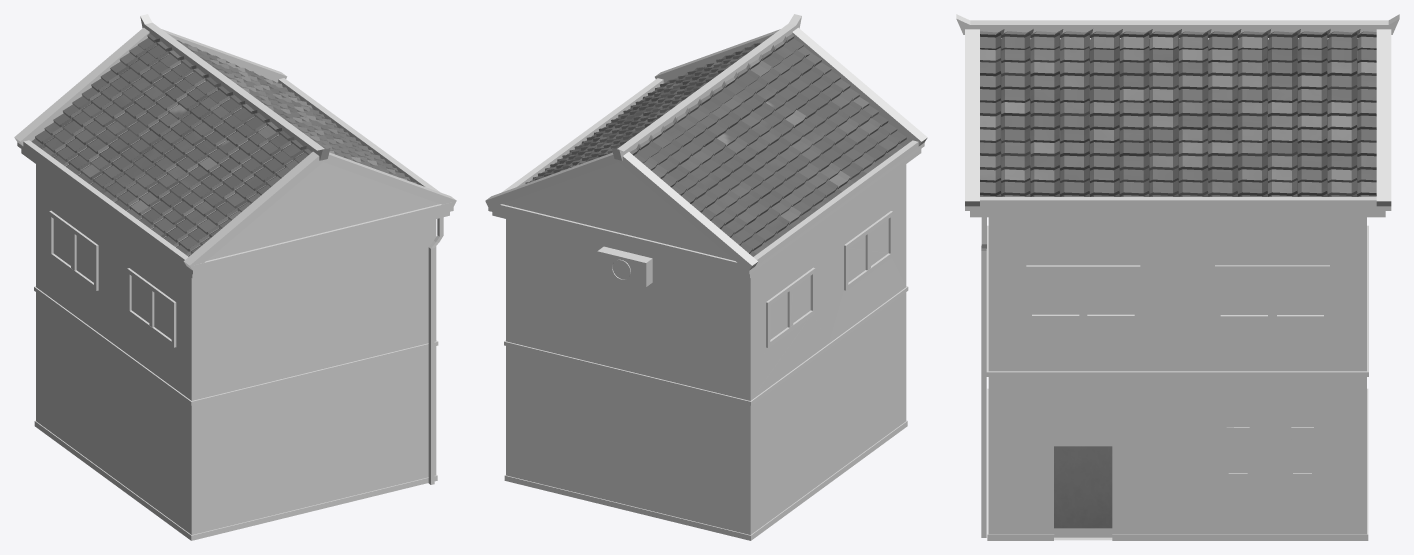
File: Casa1.fbx
3 renders of one model, left to right at view 1: azimuth 30°, elevation 25°; view 2: azimuth 150°, elevation 25°; view 3: azimuth 270°, elevation 25°, orthographic. The views are drawn at different scales.
Visible parts, largest first — view 1: Casa1; view 2: Casa1; view 3: Casa1.
Part boxes in pixels (x1=…): Casa1: x1=14, y1=14, x2=456, y2=540; Casa1: x1=485, y1=14, x2=927, y2=540; Casa1: x1=956, y1=14, x2=1399, y2=540.
Bounding box in the file's own units: 992 × 1320 × 1175.
